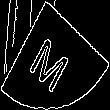M_NE: (31, 21, 79, 89)
